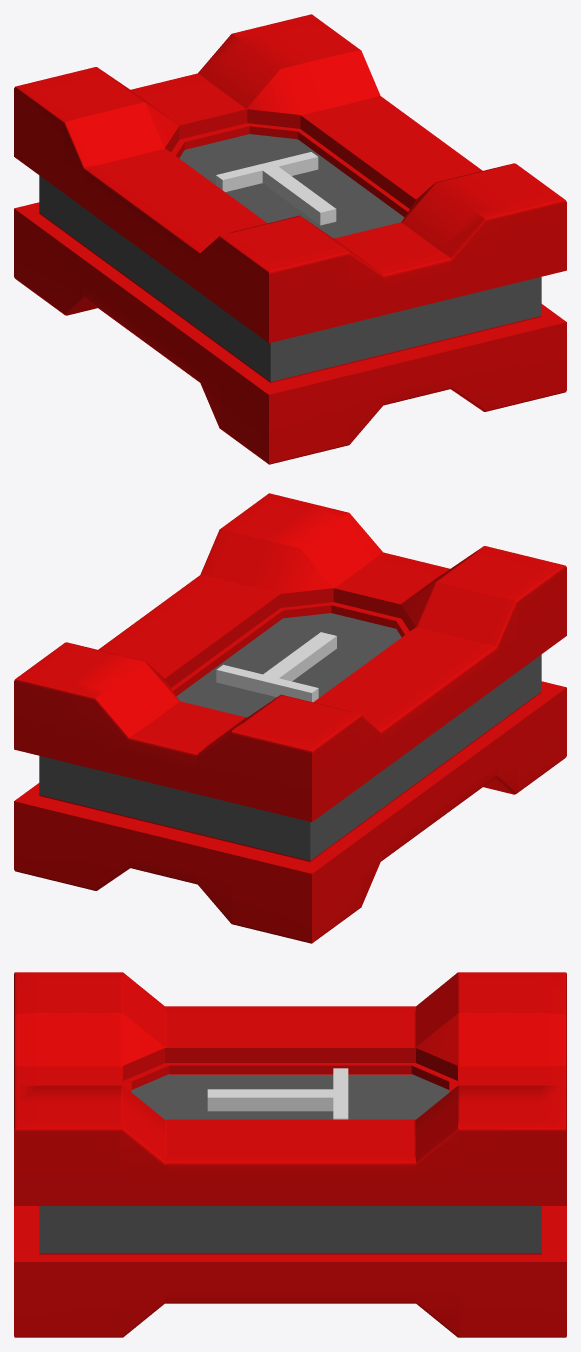
Rendered from Box_LowPoly_FBX.fbx.
The picture shows the model from 3 angles, top to bottom: view 1: azimuth 30°, elevation 25°; view 2: azimuth 150°, elevation 25°; view 3: azimuth 270°, elevation 25°; orthographic projection. The views are drawn at different scales.
Parts seen in each view (by area): view 1: pasted__pCube5, pasted__typeMesh1; view 2: pasted__pCube5, pasted__typeMesh1; view 3: pasted__pCube5, pasted__typeMesh1.
Part boxes in pixels (x1=…): pasted__pCube5: x1=14, y1=14, x2=566, y2=464; pasted__typeMesh1: x1=216, y1=152, x2=336, y2=225; pasted__pCube5: x1=14, y1=493, x2=566, y2=943; pasted__typeMesh1: x1=216, y1=632, x2=336, y2=702; pasted__pCube5: x1=14, y1=972, x2=566, y2=1337; pasted__typeMesh1: x1=207, y1=1068, x2=348, y2=1119.
Size of the model in its own units: 4.03 by 2.5 by 5.96.
